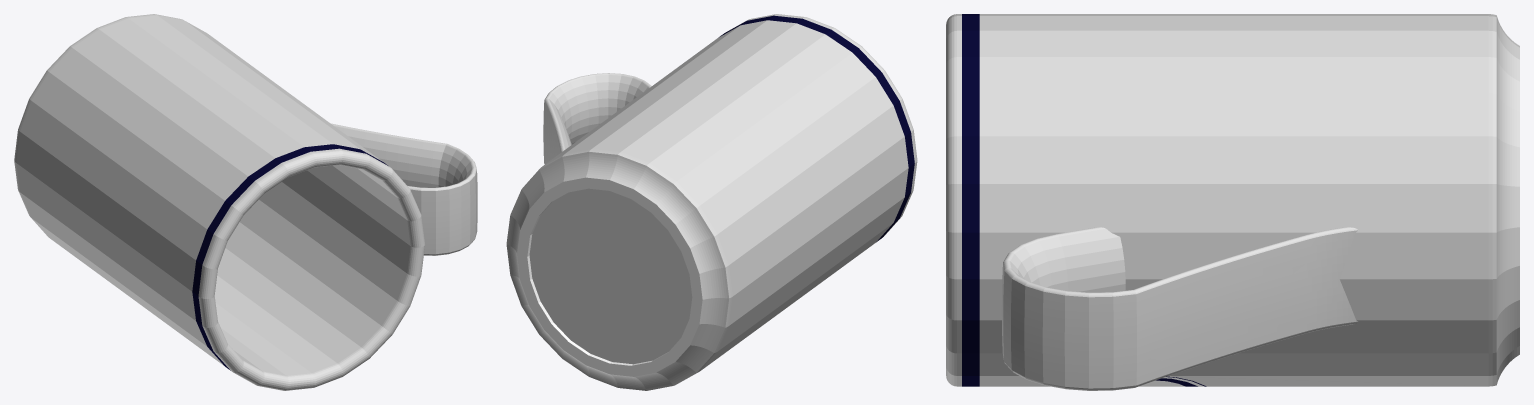
3 renders of one model, left to right at view 1: azimuth 30°, elevation 25°; view 2: azimuth 150°, elevation 25°; view 3: azimuth 270°, elevation 25°, orthographic. The views are drawn at different scales.
Parts seen in each view (by area): view 1: dansk bistro coffee mug; view 2: dansk bistro coffee mug; view 3: dansk bistro coffee mug.
Part boxes in pixels (x1,y1,x2,y2): dansk bistro coffee mug: (14, 14, 477, 390); dansk bistro coffee mug: (506, 14, 917, 390); dansk bistro coffee mug: (946, 14, 1519, 390).
Bounding box in the file's own units: 4.08 × 2.9 × 4.45.
